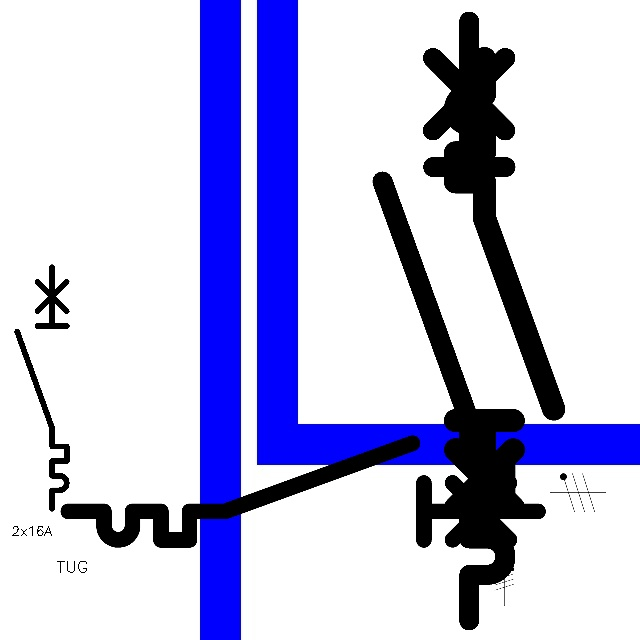interruptor_termomagnetico: (367, 6, 521, 636), (443, 46, 566, 549), (56, 431, 550, 552), (11, 261, 73, 515)
